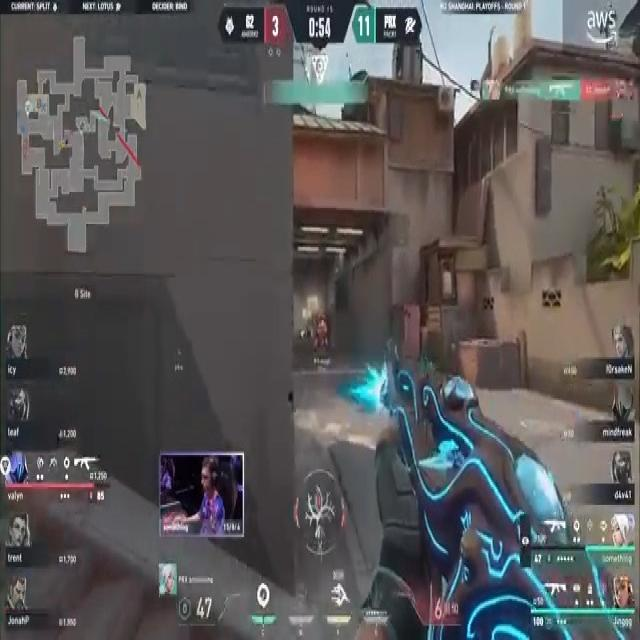enemy: (314, 310, 329, 352)
